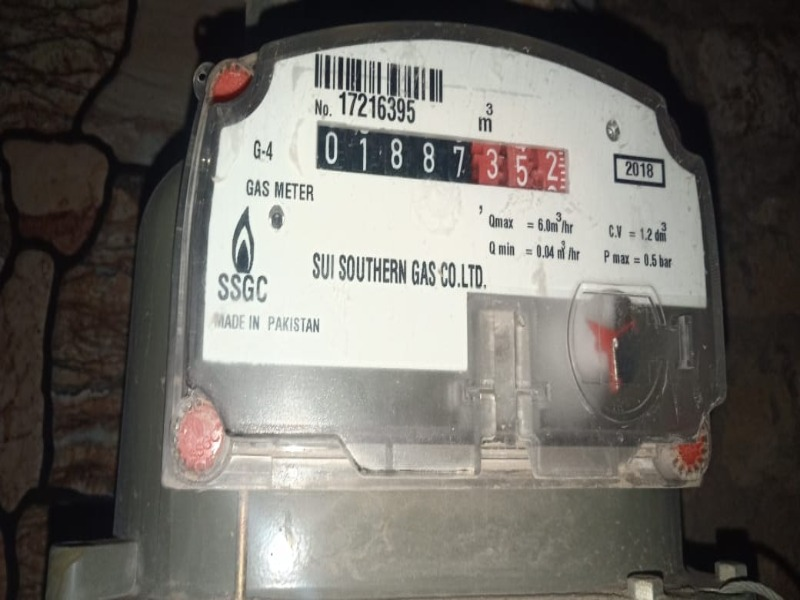ssgc: (312, 118, 570, 192)
